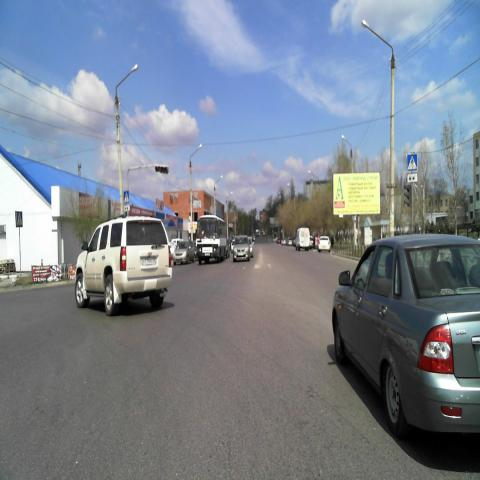8_15: (406, 172, 417, 182)
